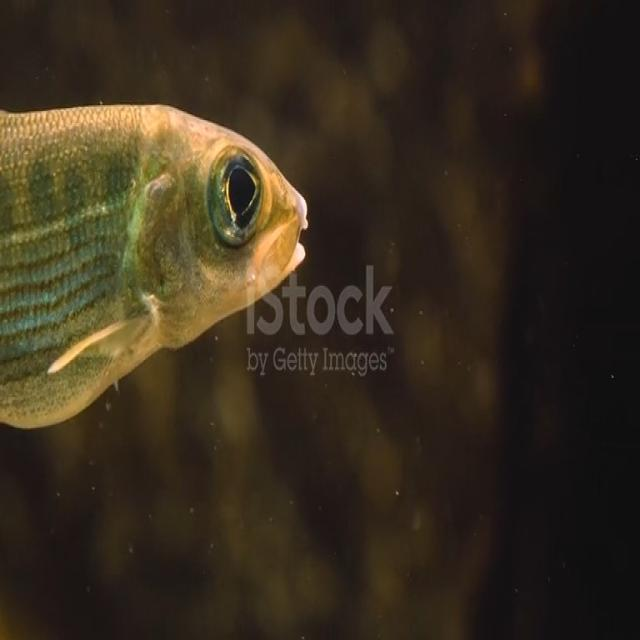fish: (0, 98, 310, 431)
